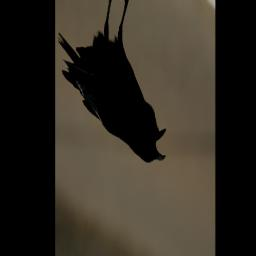Crow: (58, 0, 166, 163)
